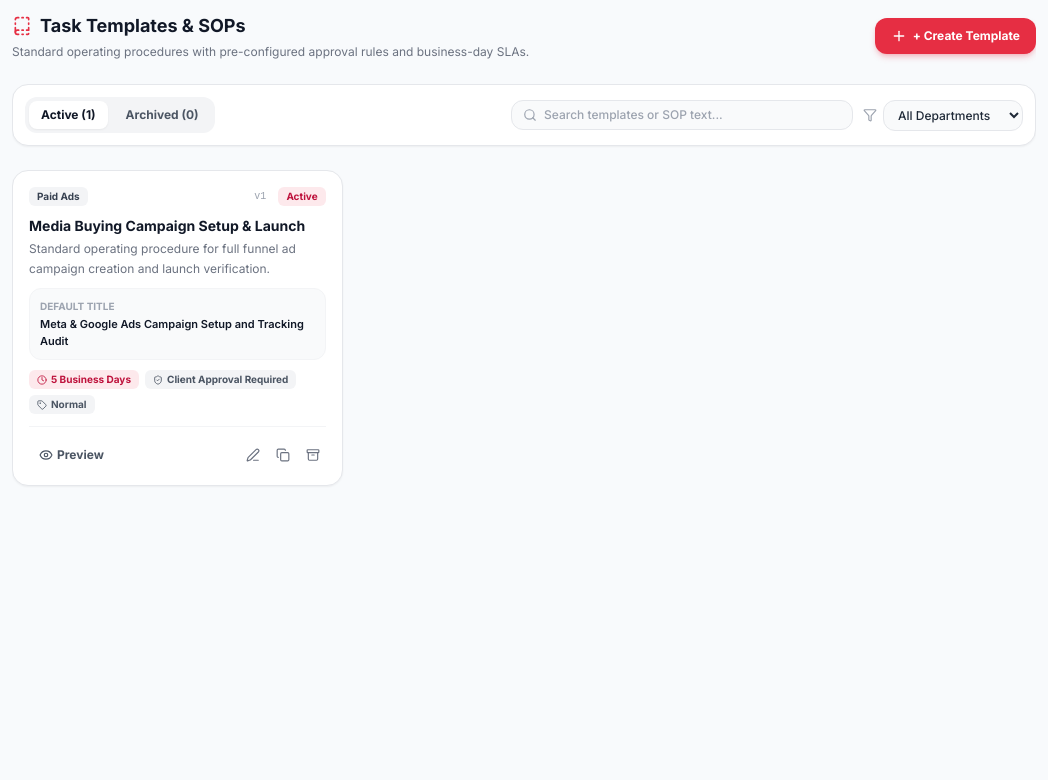
Test: Phase 3C: Task Templates System Comprehensive Suite › 5. Task Templates Library Governance & RBAC › 5.6 Duplicate template creates a copy with version 1
The width and height of the screenshot is (1048, 780).
expect the heading "Media Buying Campaign Setup & Launch" is shown: met, box [29, 216, 326, 235]
Click the button titled "duplicate template": (283, 455) [270, 442, 296, 468]
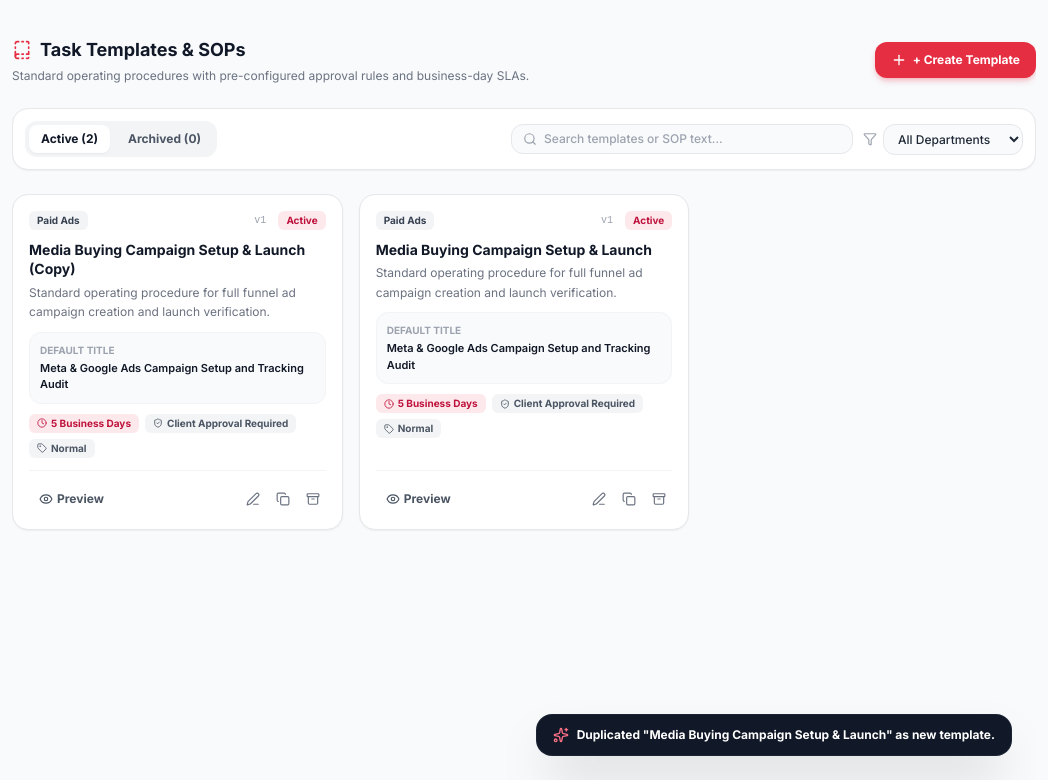
expect the heading "Media Buying Campaign Setup & Launch (Copy)" is shown: met, box [29, 240, 326, 278]
